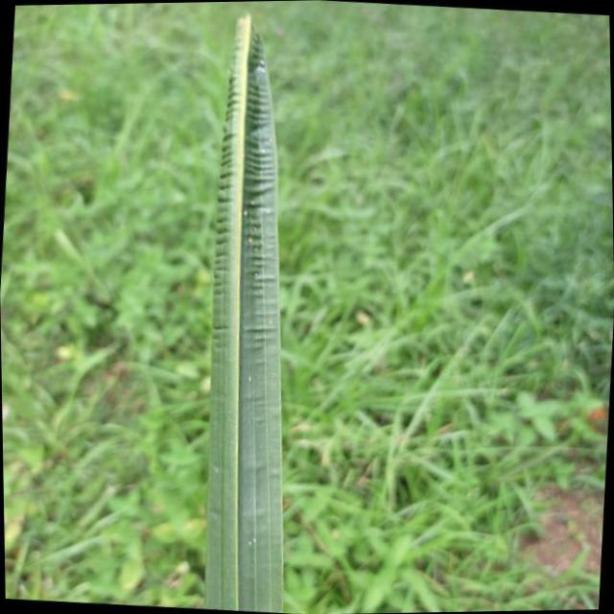Boron: (202, 14, 284, 614)
